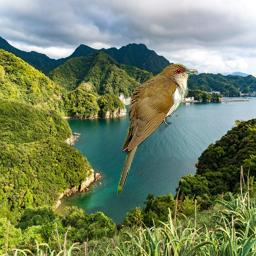Cuckoo: (117, 62, 198, 197)
